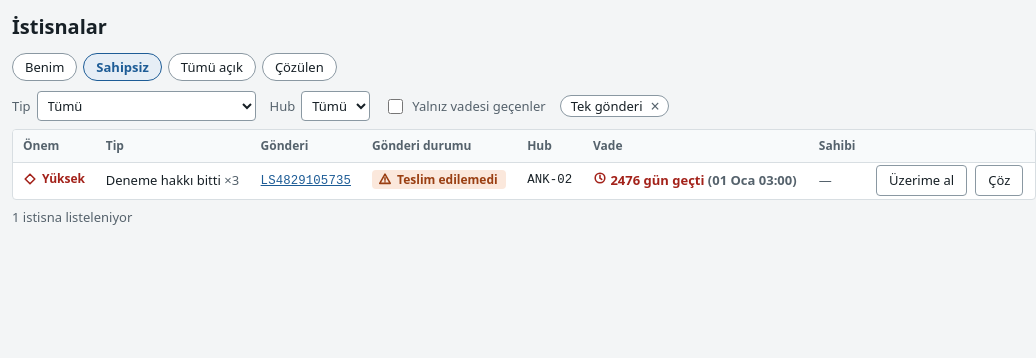
Test case: istisna kuyruğu › görünümü ve filtreleri sorguya çevirir; sahipsiz istisnada çözüm formu yerine üzerine alma ister
Check: the link "LS4829105735" is shown, box [261,174,351,188]
Check: the cell "Deneme hakkı bitti ×3" is shown, box [96,162,251,198]
Click the button with aria-label "Çöz:".
click(999, 180)  # box [975,165,1023,196]
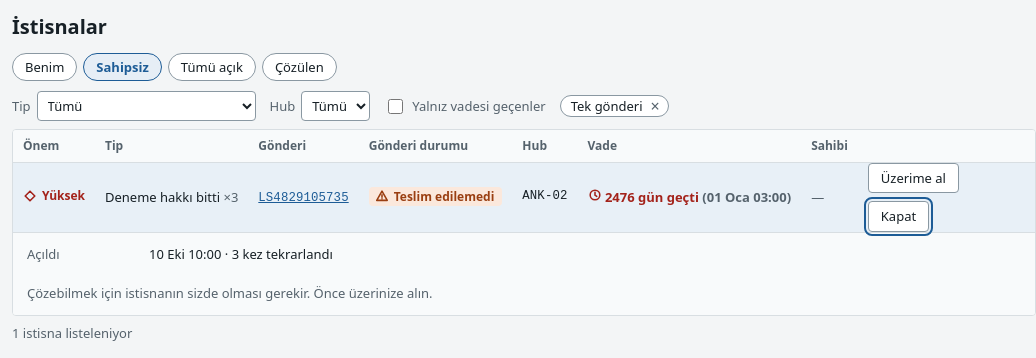
Check: the text "Çözebilmek için istisnanın sizde olması gerekir" is shown, box [27,284,310,302]
